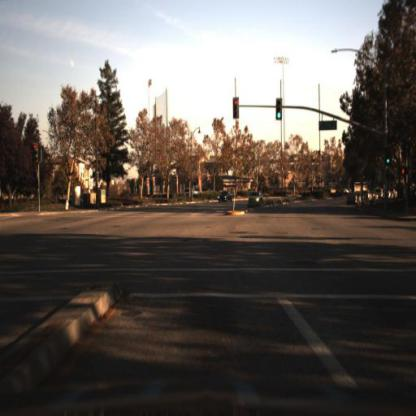car: (247, 190, 267, 208), (245, 189, 262, 208), (183, 186, 204, 200), (219, 187, 234, 206), (337, 185, 352, 199)
trafficLight-Green: (276, 95, 284, 124), (276, 107, 284, 125), (385, 149, 393, 167), (387, 152, 395, 166)
trafficLight-Red: (401, 168, 409, 182)
trafficLight-RedLeft: (231, 95, 241, 121), (232, 94, 240, 117)
